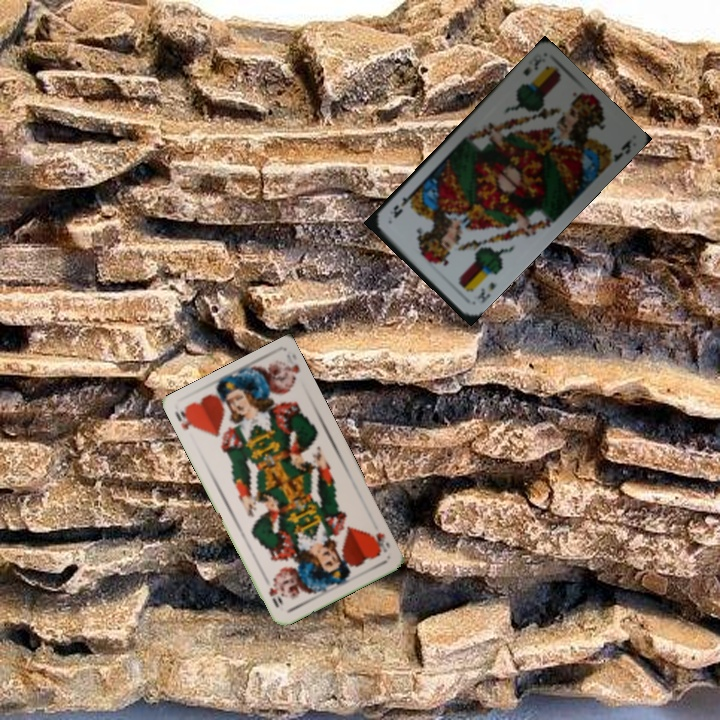EK: (473, 278, 498, 306), (519, 52, 545, 78)
HO: (171, 403, 200, 433), (368, 528, 393, 558)
